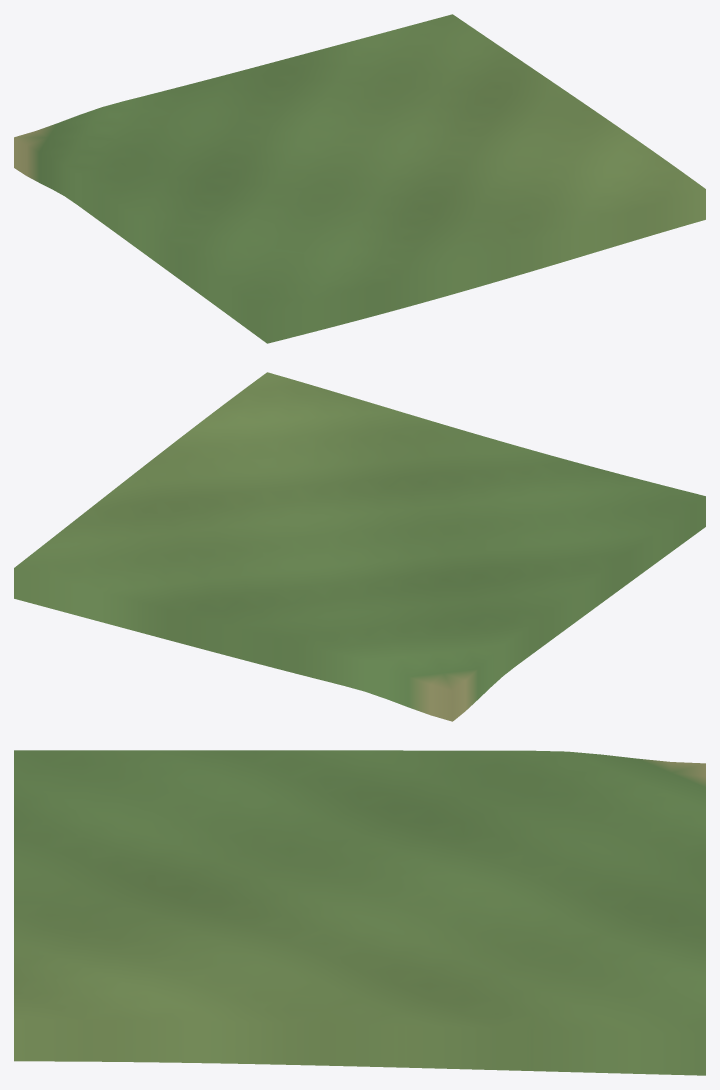
3 renders of one model, top to bottom at view 1: azimuth 30°, elevation 25°; view 2: azimuth 150°, elevation 25°; view 3: azimuth 270°, elevation 25°, orthographic. The views are drawn at different scales.
Parts seen in each view (by area): view 1: terrain; view 2: terrain; view 3: terrain.
Boxes of the visible parts, x1,y1,x2,y2 form: terrain: (14, 14, 705, 343); terrain: (14, 372, 705, 721); terrain: (14, 750, 705, 1075).
Bounding box in the file's own units: 30 × 3.74 × 30.
